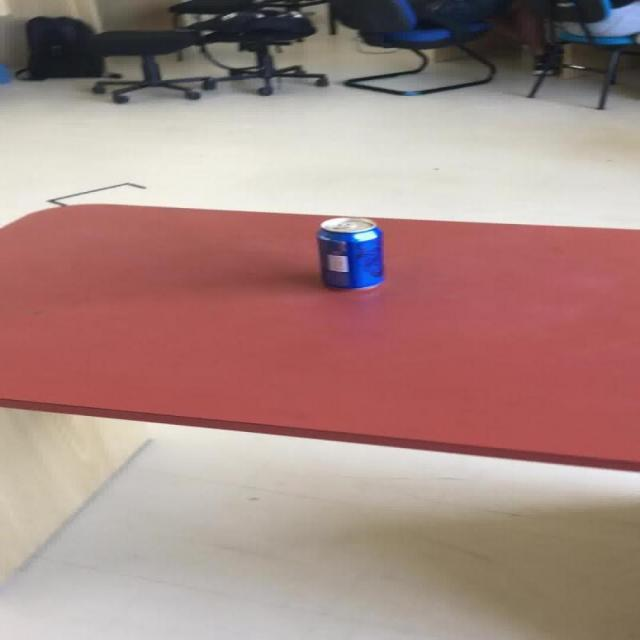Tonic: (314, 215, 385, 290)
